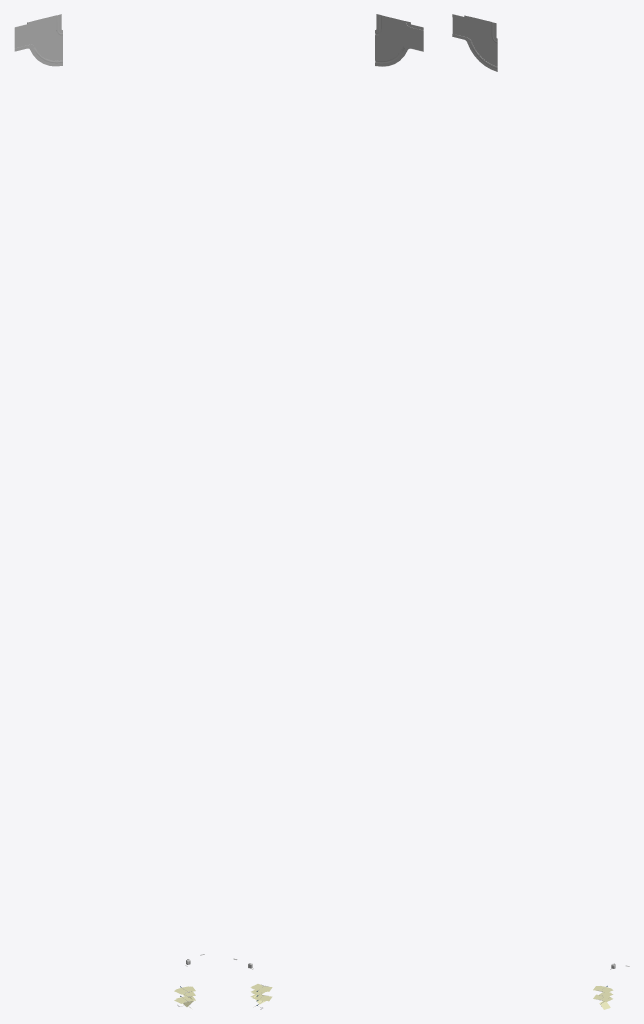
File: opori.fbx
The picture shows the model from 3 angles, left to right: view 1: azimuth 30°, elevation 25°; view 2: azimuth 150°, elevation 25°; view 3: azimuth 330°, elevation 25°; orthographic projection. The views are drawn at different scales.
Visible parts, largest first — view 1: Object01; view 2: Object01; view 3: Object01.
Boxes of the visible parts, x1,y1,x2,y2 form: Object01: (35,15,62,60); Object01: (375,15,402,60); Object01: (472,18,497,66).
Bounding box in the file's own units: 726 × 3738 × 57.15.
